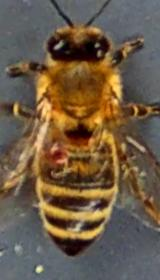varroa_mite: (40, 133, 80, 177)
